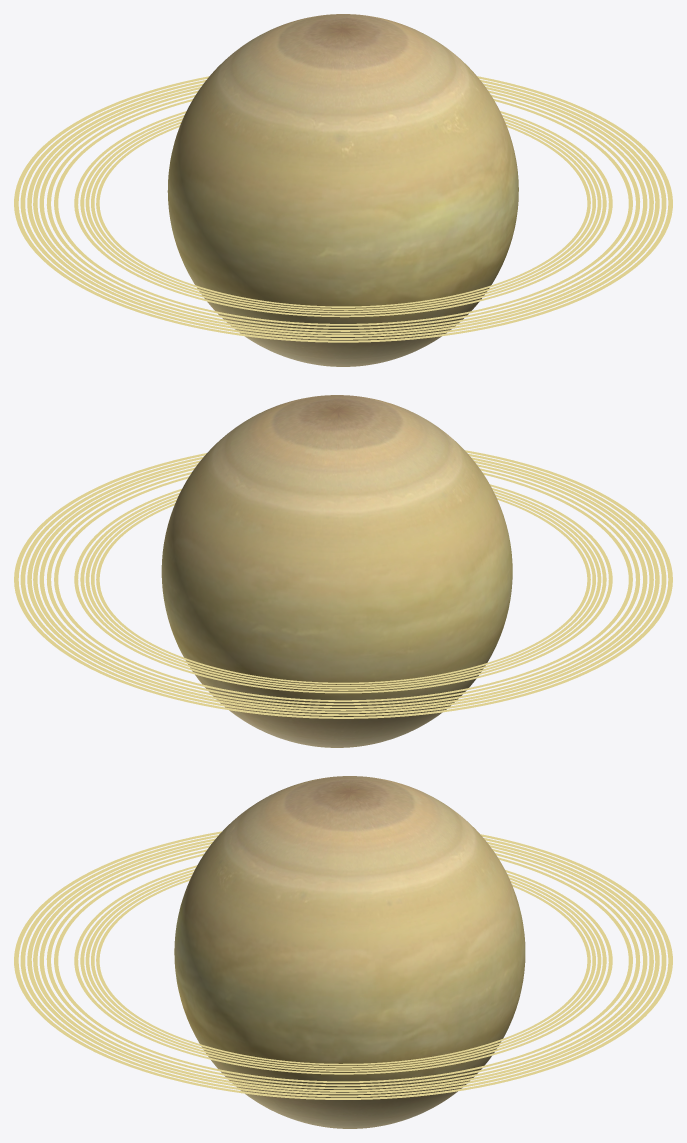
The model's file is saturne.fbx.
3 renders of one model, top to bottom at view 1: azimuth 30°, elevation 25°; view 2: azimuth 150°, elevation 25°; view 3: azimuth 270°, elevation 25°, orthographic.
Visible parts, largest first — view 1: saturne; view 2: saturne; view 3: saturne.
Boxes of the visible parts, bbox=[...] form: saturne: bbox=[14, 14, 672, 366]; saturne: bbox=[14, 395, 672, 747]; saturne: bbox=[14, 776, 672, 1128].
Bounding box in the file's own units: 618 × 333 × 618.
2 materials, 1 textured.
